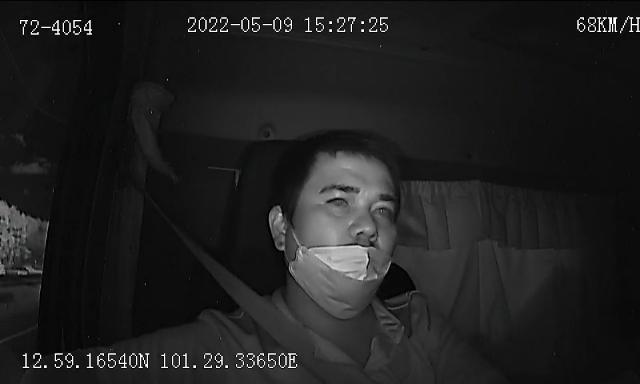SafeDriving: (320, 188, 356, 213), (367, 195, 399, 222)
Seatbelt: (190, 240, 378, 384)
